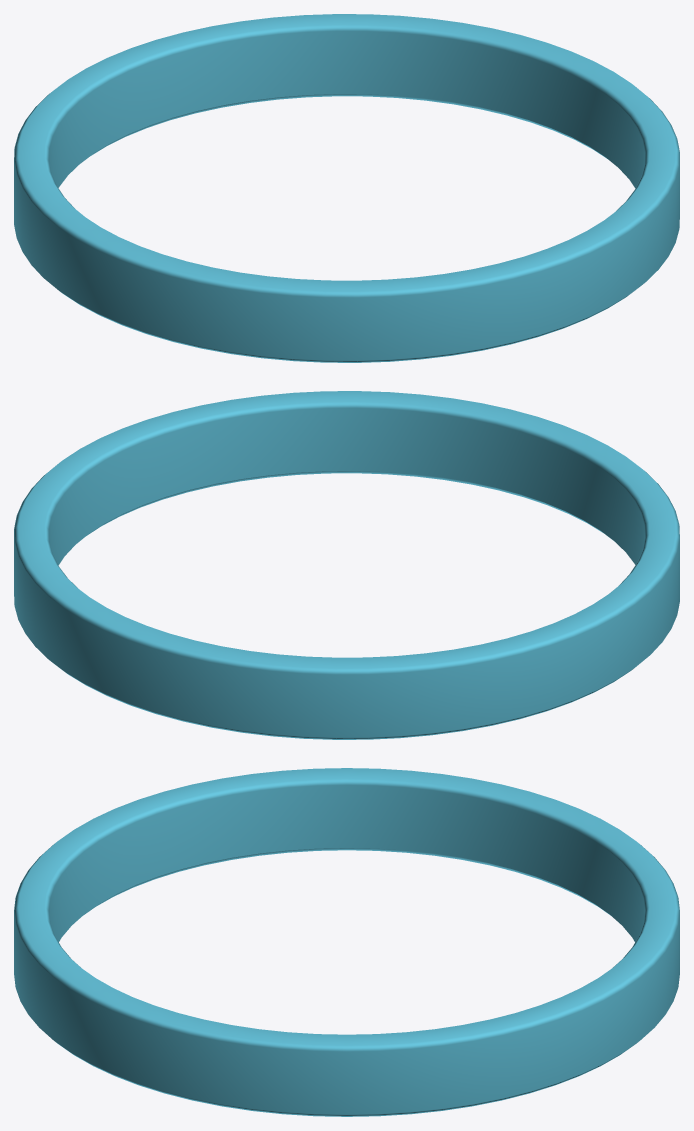
The picture shows the model from 3 angles, top to bottom: view 1: azimuth 30°, elevation 25°; view 2: azimuth 150°, elevation 25°; view 3: azimuth 270°, elevation 25°; orthographic projection.
Parts seen in each view (by area): view 1: seal_body; view 2: seal_body; view 3: seal_body.
Boxes of the visible parts, x1,y1,x2,y2 form: seal_body: [14, 14, 679, 362]; seal_body: [14, 391, 679, 739]; seal_body: [14, 768, 679, 1116].
Size of the model in its own units: 0.1207 by 0.0143 by 0.1207.
